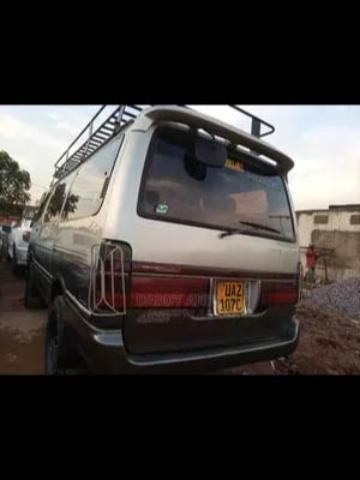van: (24, 105, 300, 371)
